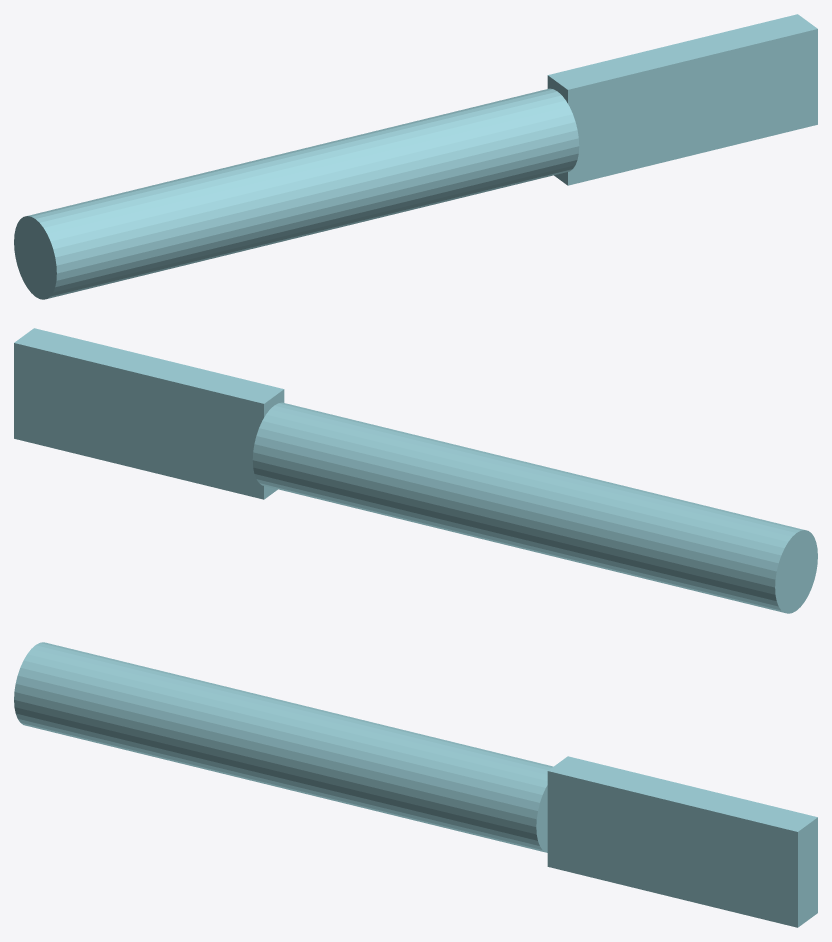
File: cylinder_spatula_v6014.obj
The picture shows the model from 3 angles, top to bottom: view 1: azimuth 30°, elevation 25°; view 2: azimuth 150°, elevation 25°; view 3: azimuth 330°, elevation 25°; orthographic projection.
Size of the model in its own units: 0.2695 by 0.0319 by 0.0259.
Materials: 1 (1 with a texture image).
